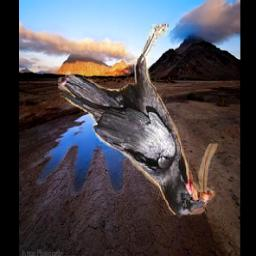Crow: (58, 24, 222, 223)
